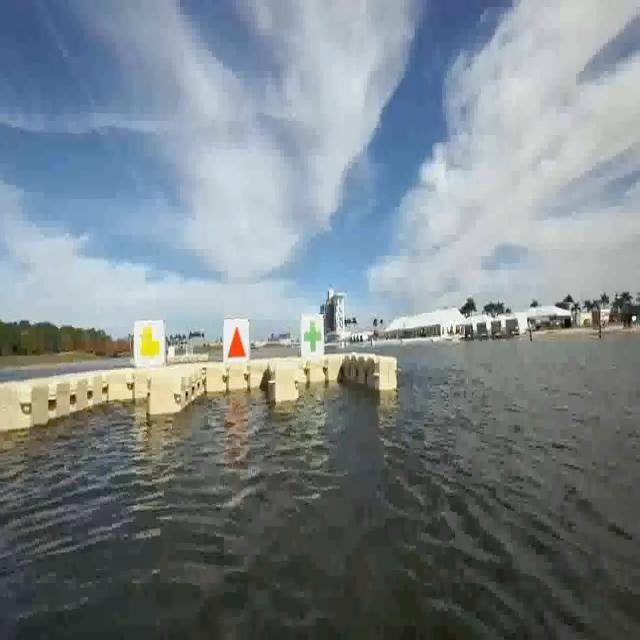red-dot: (225, 326, 250, 364)
yellow-duck: (138, 323, 161, 359)
